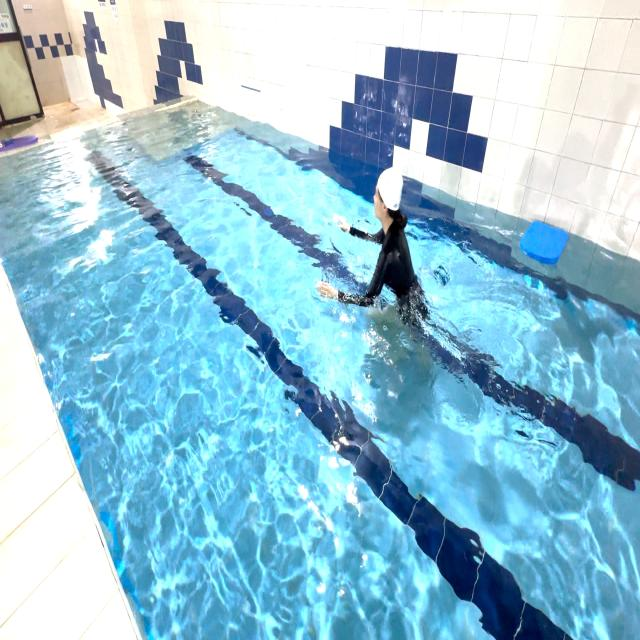Swimming: (309, 125, 459, 373)
